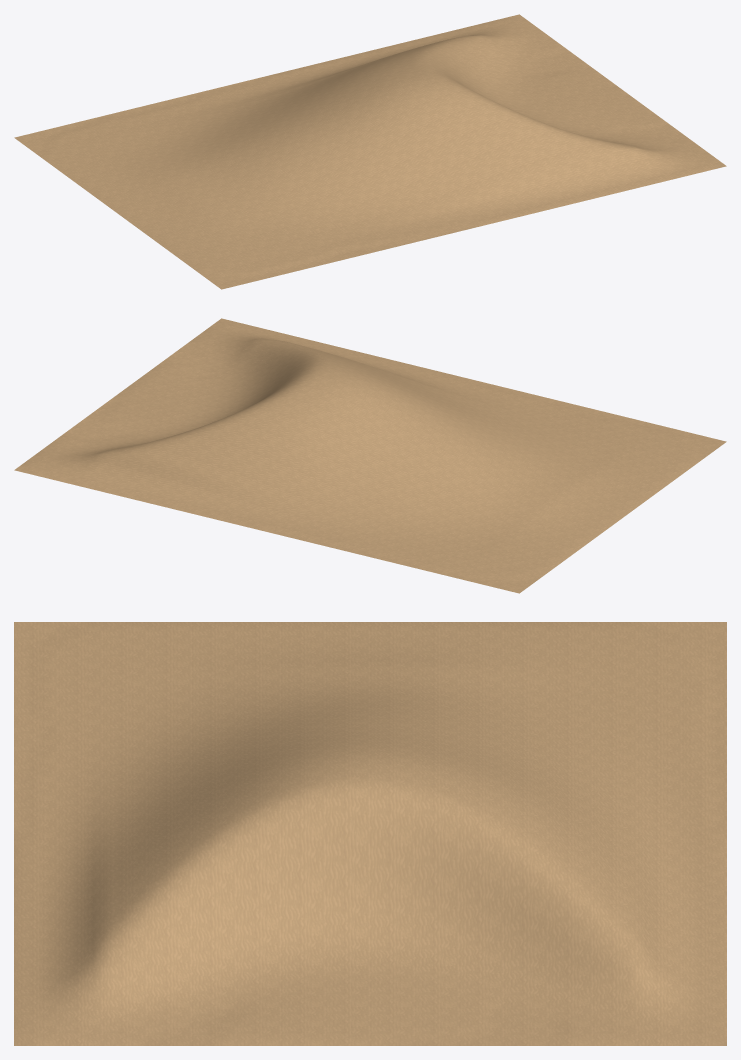
The model's file is kum_tepesi_orta.gltf.
3 views of the same model, one above another, from view 1: azimuth 30°, elevation 25°; view 2: azimuth 150°, elevation 25°; view 3: azimuth 270°, elevation 25° (orthographic). The views are drawn at different scales.
Visible parts, largest first — view 1: kum_tepesi_orta; view 2: kum_tepesi_orta; view 3: kum_tepesi_orta.
Part boxes in pixels (x1,y1,x2,y2): kum_tepesi_orta: [14, 14, 726, 289]; kum_tepesi_orta: [14, 318, 726, 593]; kum_tepesi_orta: [14, 622, 726, 1045].
Size of what is drawn, in the model's own units: 45 by 5.18 by 32.
1 material, 1 textured.
